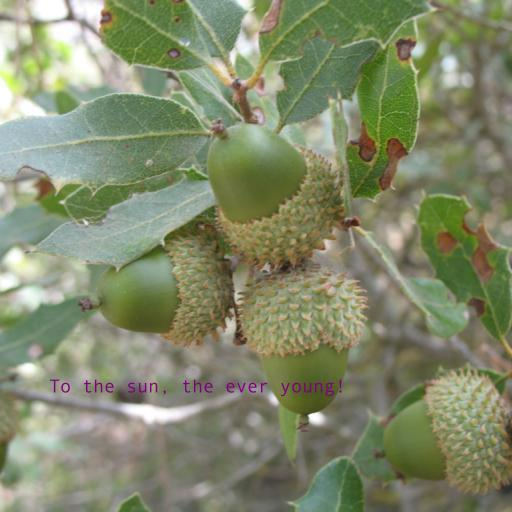Andale Mono: (48, 379, 346, 397)
